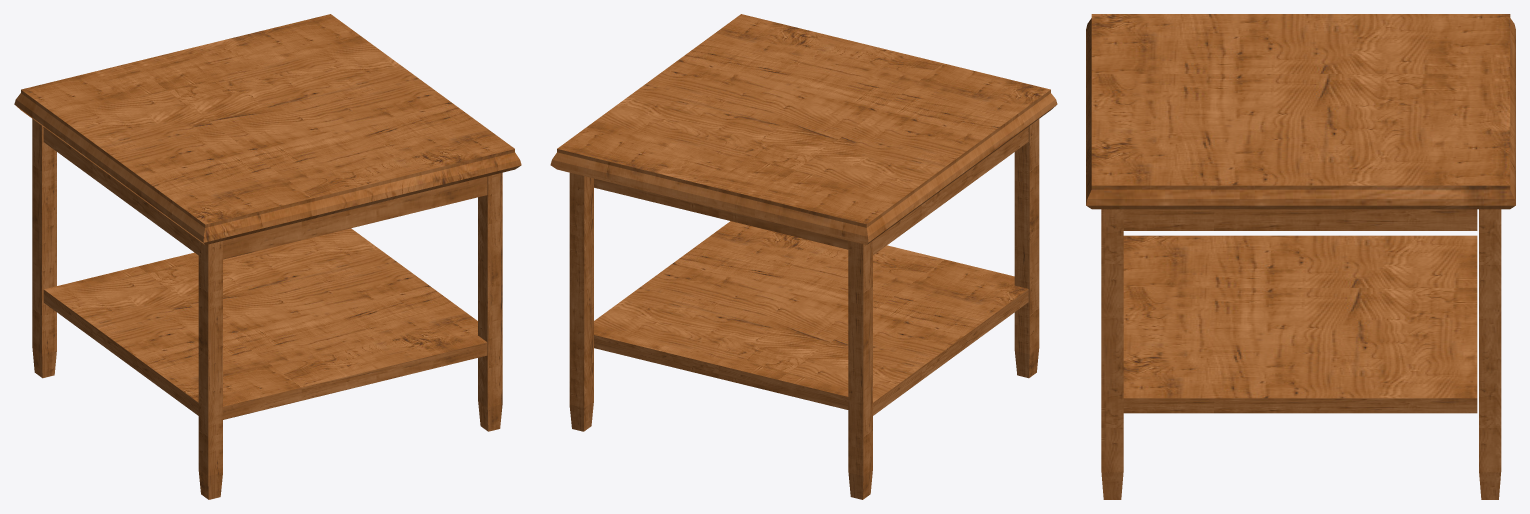
Rendered from end-table.fbx.
The picture shows the model from 3 angles, left to right: view 1: azimuth 30°, elevation 25°; view 2: azimuth 150°, elevation 25°; view 3: azimuth 270°, elevation 25°; orthographic projection. The views are drawn at different scales.
Parts seen in each view (by area): view 1: polySurface22; view 2: polySurface22; view 3: polySurface22.
Boxes of the visible parts, x1,y1,x2,y2 form: polySurface22: [14, 14, 521, 499]; polySurface22: [550, 14, 1057, 499]; polySurface22: [1086, 14, 1515, 499].
Size of the model in its own units: 14.25 by 12.04 by 14.68.
1 material, 1 textured.
